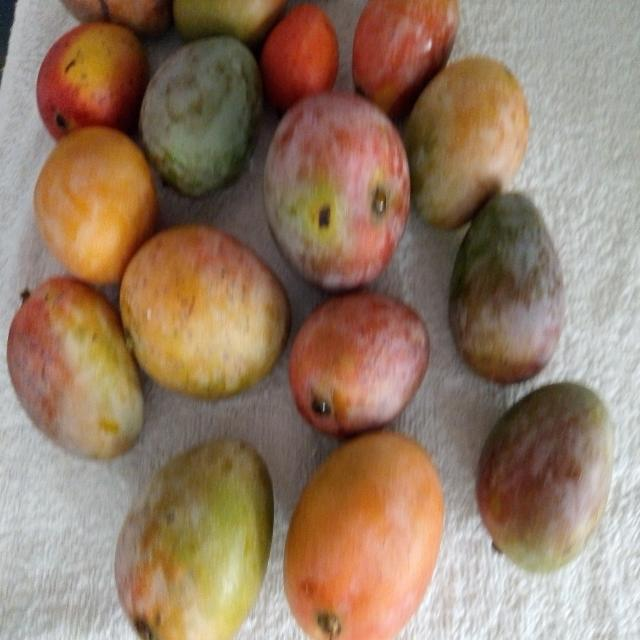mango: (284, 431, 443, 639), (115, 439, 273, 639), (120, 226, 290, 398), (264, 92, 409, 290), (477, 382, 613, 572), (7, 277, 143, 458), (449, 193, 565, 382), (404, 57, 529, 229), (289, 291, 429, 436), (140, 37, 262, 196), (37, 23, 149, 138)
